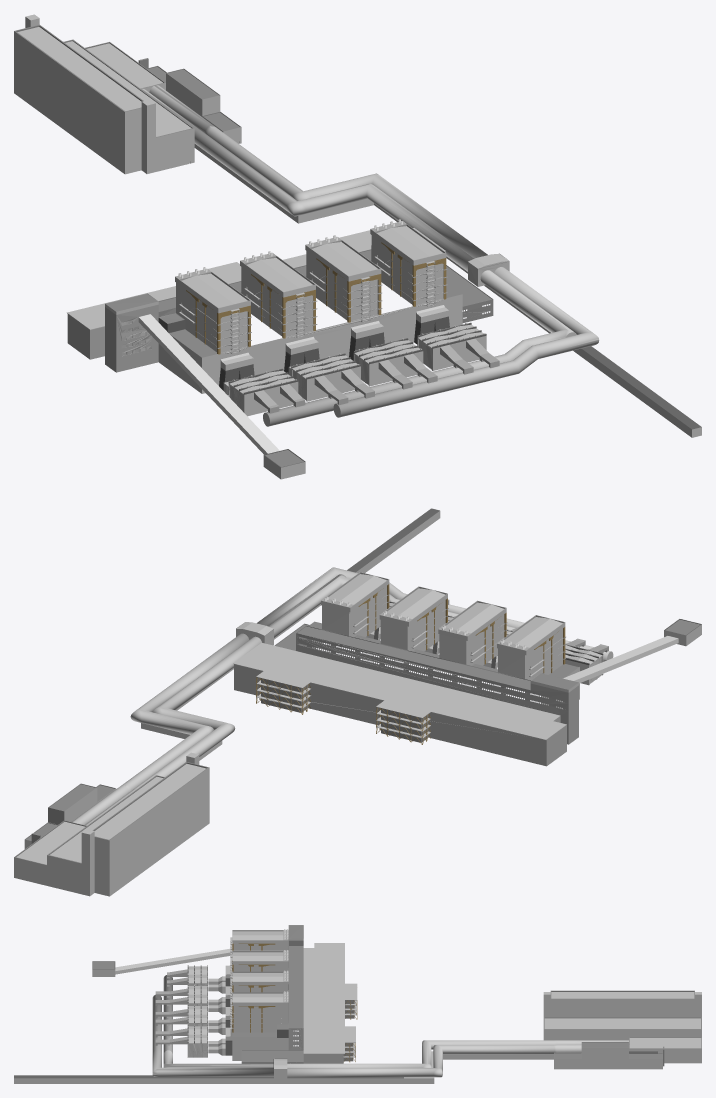
File: kraftwerk-jaenschwalde-b_LOD00.gltf
The picture shows the model from 3 angles, top to bottom: view 1: azimuth 30°, elevation 25°; view 2: azimuth 150°, elevation 25°; view 3: azimuth 270°, elevation 25°; orthographic projection. The views are drawn at different scales.
Parts seen in each view (by area): view 1: Sketchup.001; view 2: Sketchup.001; view 3: Sketchup.001.
Boxes of the visible parts, box(x1,y1,x2,y2) form: Sketchup.001: box(14, 14, 701, 479); Sketchup.001: box(14, 508, 701, 896); Sketchup.001: box(14, 925, 701, 1083).
Size of the model in its own units: 275 by 57.18 by 647.
